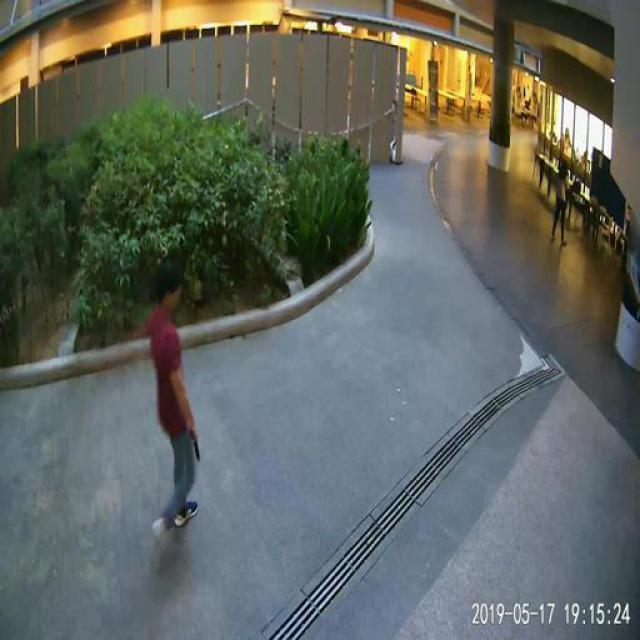weapon: (187, 428, 202, 463)
